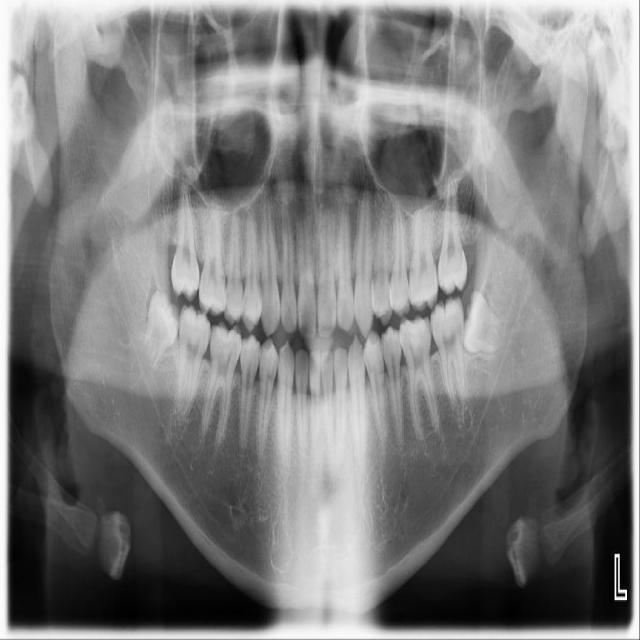impacted tooth: (463, 289, 510, 354)
